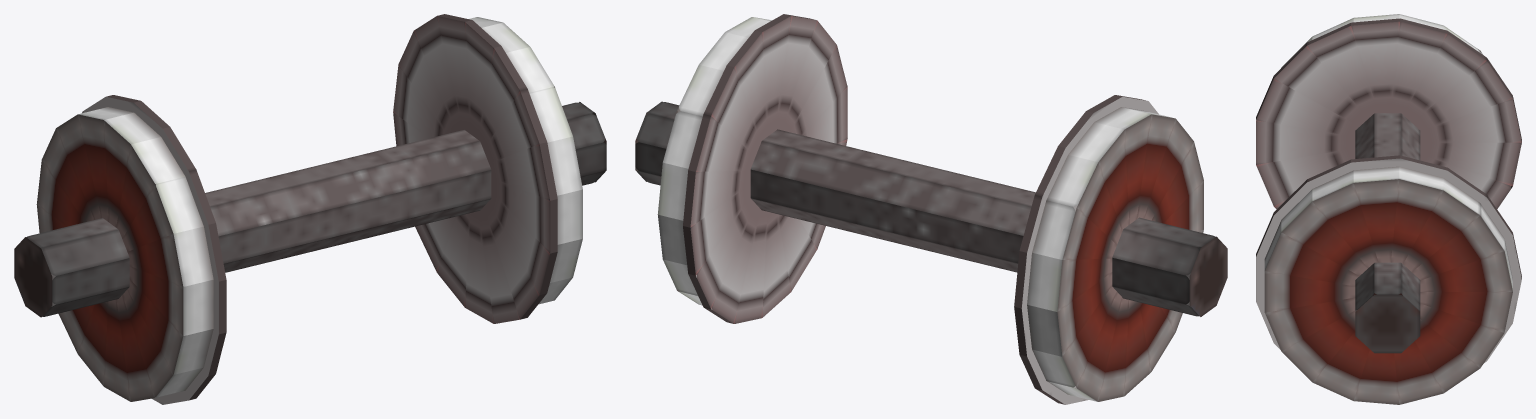
Rendered from df11g_wheel.obj.
3 renders of one model, left to right at view 1: azimuth 30°, elevation 25°; view 2: azimuth 150°, elevation 25°; view 3: azimuth 270°, elevation 25°, orthographic. The views are drawn at different scales.
Visible parts, largest first — view 1: cylinder; view 2: cylinder; view 3: cylinder.
Part boxes in pixels (left/top/right/bottom): cylinder: left=14, top=14, right=606, bottom=404; cylinder: left=635, top=14, right=1227, bottom=404; cylinder: left=1256, top=14, right=1521, bottom=404.
Bounding box in the file's own units: 2.31 × 1.14 × 1.13.
